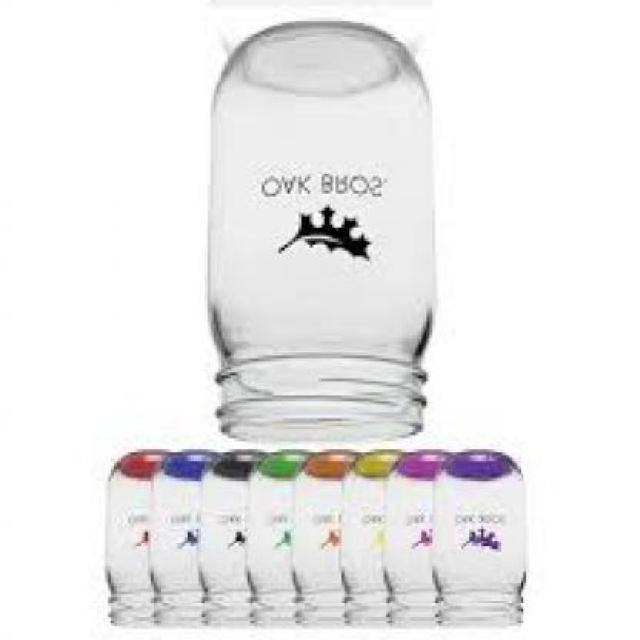GLASS: (204, 22, 438, 444), (429, 452, 526, 631), (384, 454, 454, 628), (336, 454, 404, 628), (149, 458, 216, 632), (288, 458, 352, 632), (244, 455, 304, 631), (196, 454, 256, 628), (106, 454, 166, 628)
